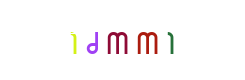1: (53, 0, 133, 80), (131, 0, 211, 80)
D: (81, 0, 161, 80)
M: (82, 0, 162, 80), (92, 0, 172, 80)
